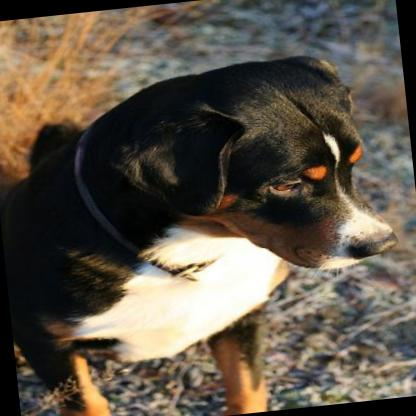Appenzeller: (0, 44, 414, 416)
